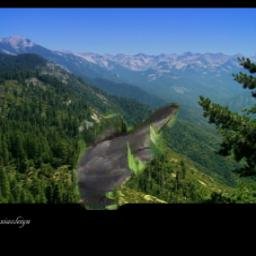Crow: (73, 103, 179, 210)
